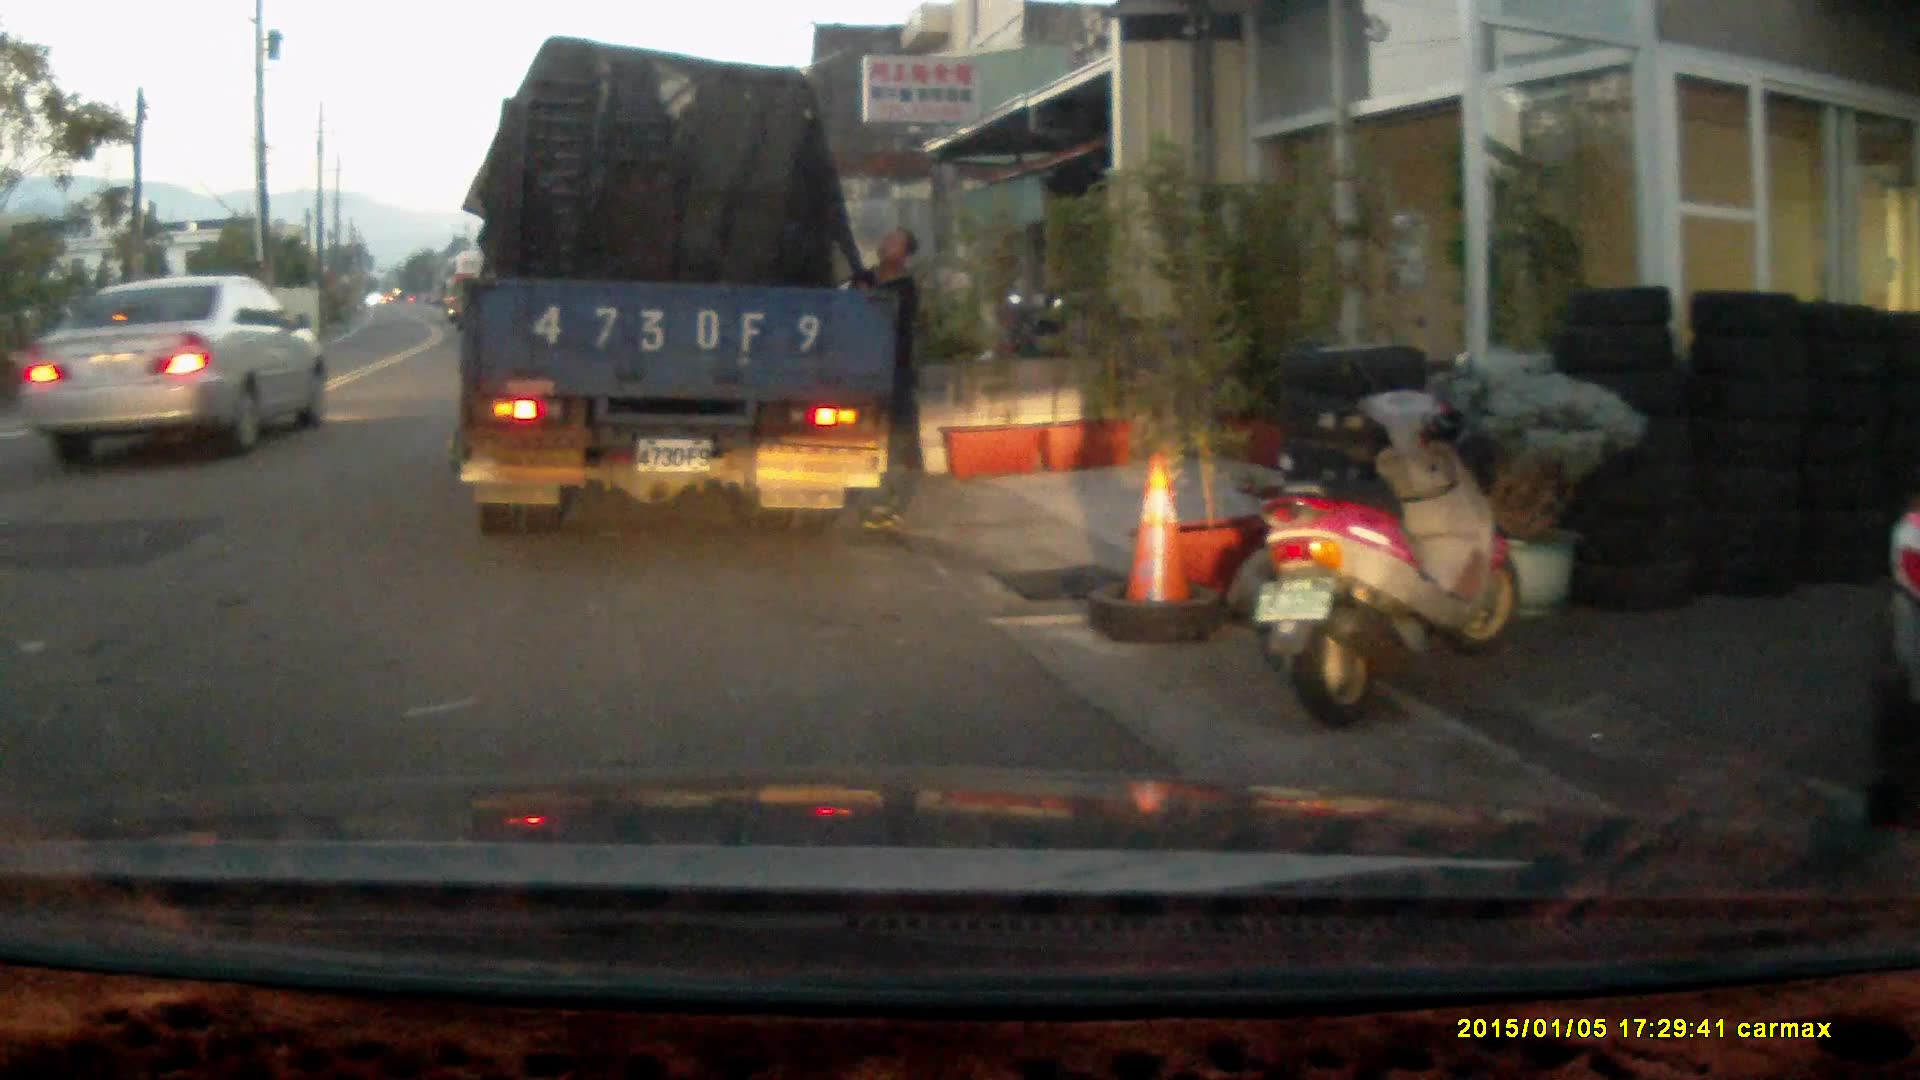pedestrian: (847, 227, 925, 529)
vehicle: (466, 43, 910, 531), (5, 274, 320, 461)
